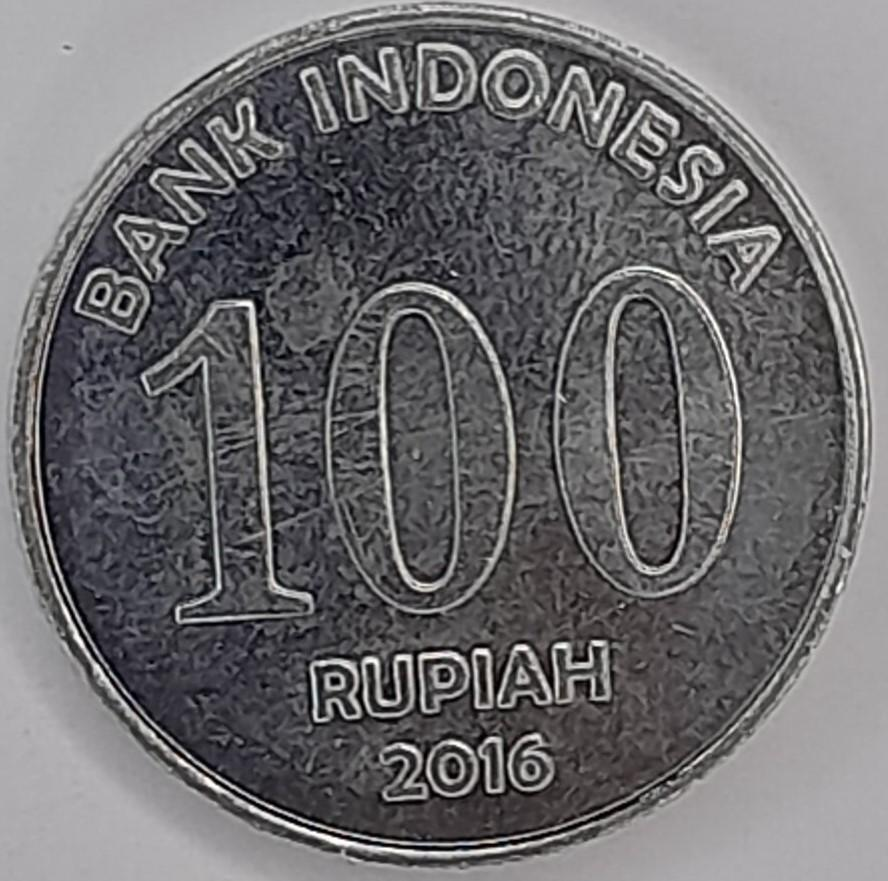coin_100_e2016: (2, 0, 877, 872)
